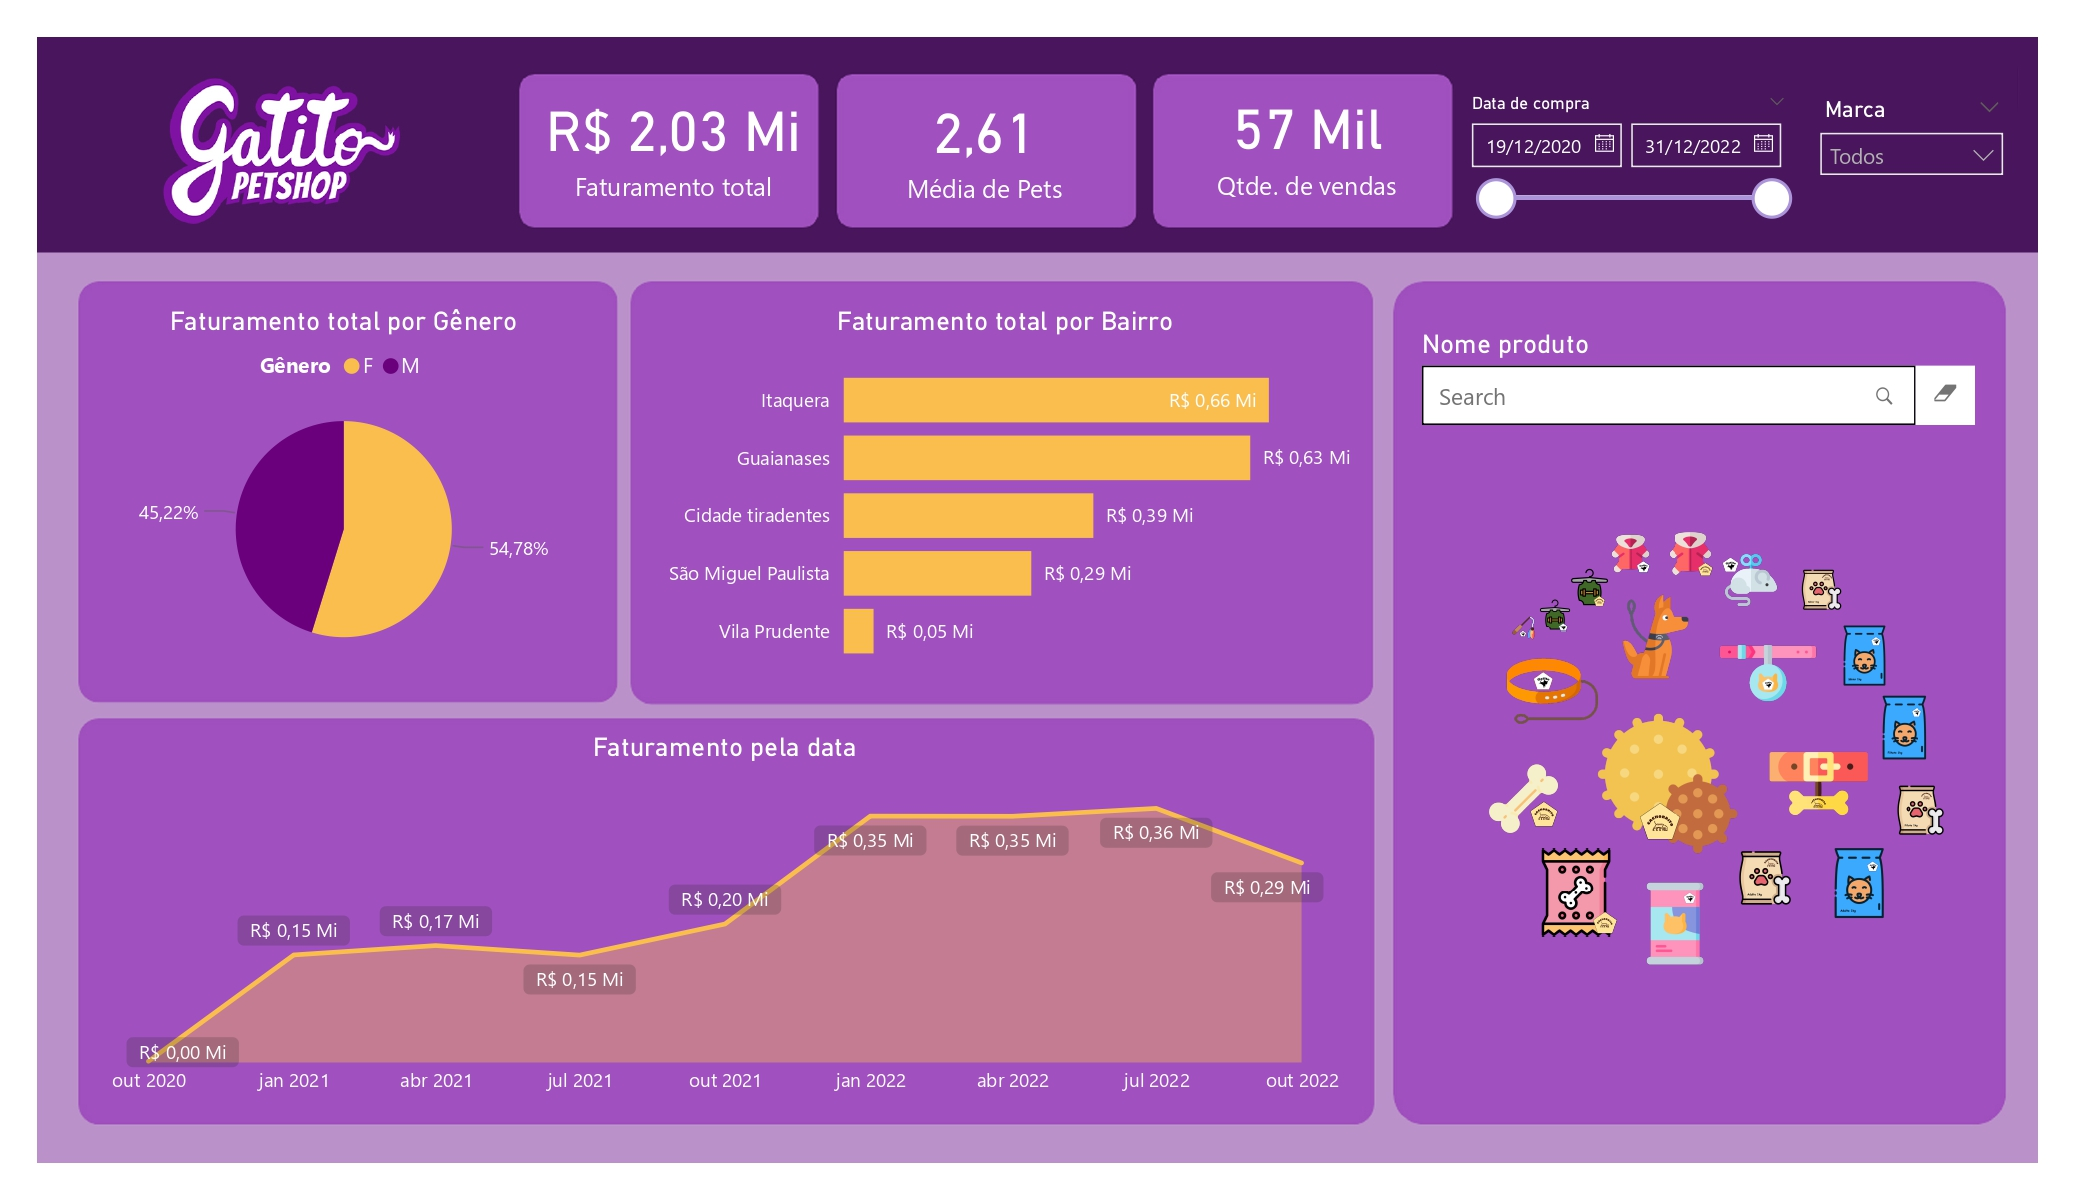

The page's visual inventory and layout, read from the dashboard file:
{"tool":"powerbi","page":{"name":"Desktop","canvas":[1280,720],"ordinal":0},"visuals":[{"type":"card","fields":{"Values":["Avg(Clientes.Pets)"]},"box":[505,18.7,202.2,99.4],"z":0},{"type":"ImageGrid_FC5183B9_926C_45E0_B5F7_0CE9EAF1DA9B","title":" ","fields":{"ImageURL":["Produtos.Url img"]},"box":[904.8,199.9,340.2,491],"z":1000},{"type":"card","fields":{"Values":["Sum(Vendas.Quantidade)"]},"box":[720.1,16.4,184.7,99.4],"z":2000},{"type":"card","fields":{"Values":["Vendas.Faturamento total"]},"box":[274.7,4.7,264.2,123.9],"z":3000},{"type":"pieChart","fields":{"Category":["Clientes.Gênero"],"Y":["Vendas.Faturamento total"]},"box":[23.4,170.7,346,239.6],"z":4000},{"type":"clusteredBarChart","fields":{"Category":["Clientes.Bairro"],"Y":["Vendas.Faturamento total"]},"box":[390.4,170.7,458.2,244.3],"z":5000},{"type":"areaChart","title":"Faturamento pela data","fields":{"Category":["Vendas.Data de compra.Variation.Hierarquia de datas.Ano","Vendas.Data de compra.Variation.Hierarquia de datas.Trimestre","Vendas.Data de compra.Variation.Hierarquia de datas.Mês","Vendas.Data de compra.Variation.Hierarquia de datas.Dia"],"Y":["Vendas.Faturamento total"]},"box":[42.1,444.2,796.1,242],"z":6000},{"type":"textFilter25A4896A83E0487089E2B90C9AE57C8A","fields":{"field":["Produtos.Nome produto"]},"box":[881.4,185.9,363.5,84.2],"z":7000},{"type":"slicer","fields":{"Values":["Produtos.Marca"]},"box":[1131.4,33.2,136.9,66.5],"z":8000},{"type":"slicer","fields":{"Values":["Vendas.Data de compra"]},"box":[904.5,31.3,226.9,87],"z":9000},{"type":"shape","box":[14,4.7,56.1,128.6],"z":10000}]}

Visuals, with their boxes in screenshot pixels (x1, y1, x2, y2):
card - Avg(Clientes.Pets): left=827, top=67, right=1142, bottom=222
" " ImageGrid_FC5183B9_926C_45E0_B5F7_0CE9EAF1DA9B: left=1451, top=350, right=1983, bottom=1117
card - Sum(Vendas.Quantidade): left=1163, top=63, right=1451, bottom=218
card - Vendas.Faturamento total: left=467, top=45, right=880, bottom=238
pieChart - Clientes.Gênero x Vendas.Faturamento total: left=74, top=304, right=615, bottom=679
clusteredBarChart - Clientes.Bairro x Vendas.Faturamento total: left=648, top=304, right=1363, bottom=686
"Faturamento pela data" areaChart: left=103, top=732, right=1347, bottom=1110
textFilter25A4896A83E0487089E2B90C9AE57C8A - Produtos.Nome produto: left=1415, top=328, right=1983, bottom=460
slicer - Produtos.Marca: left=1805, top=89, right=2019, bottom=193
slicer - Vendas.Data de compra: left=1451, top=86, right=1805, bottom=222
shape: left=59, top=45, right=147, bottom=246
